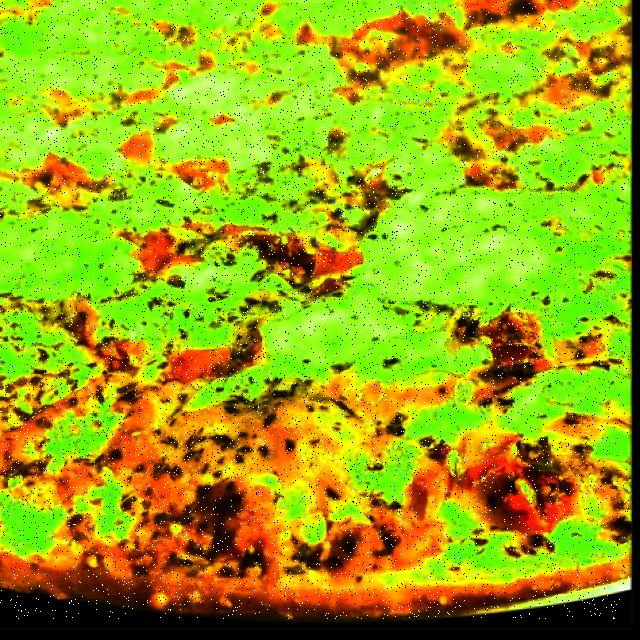Pizza: (0, 0, 629, 619)
